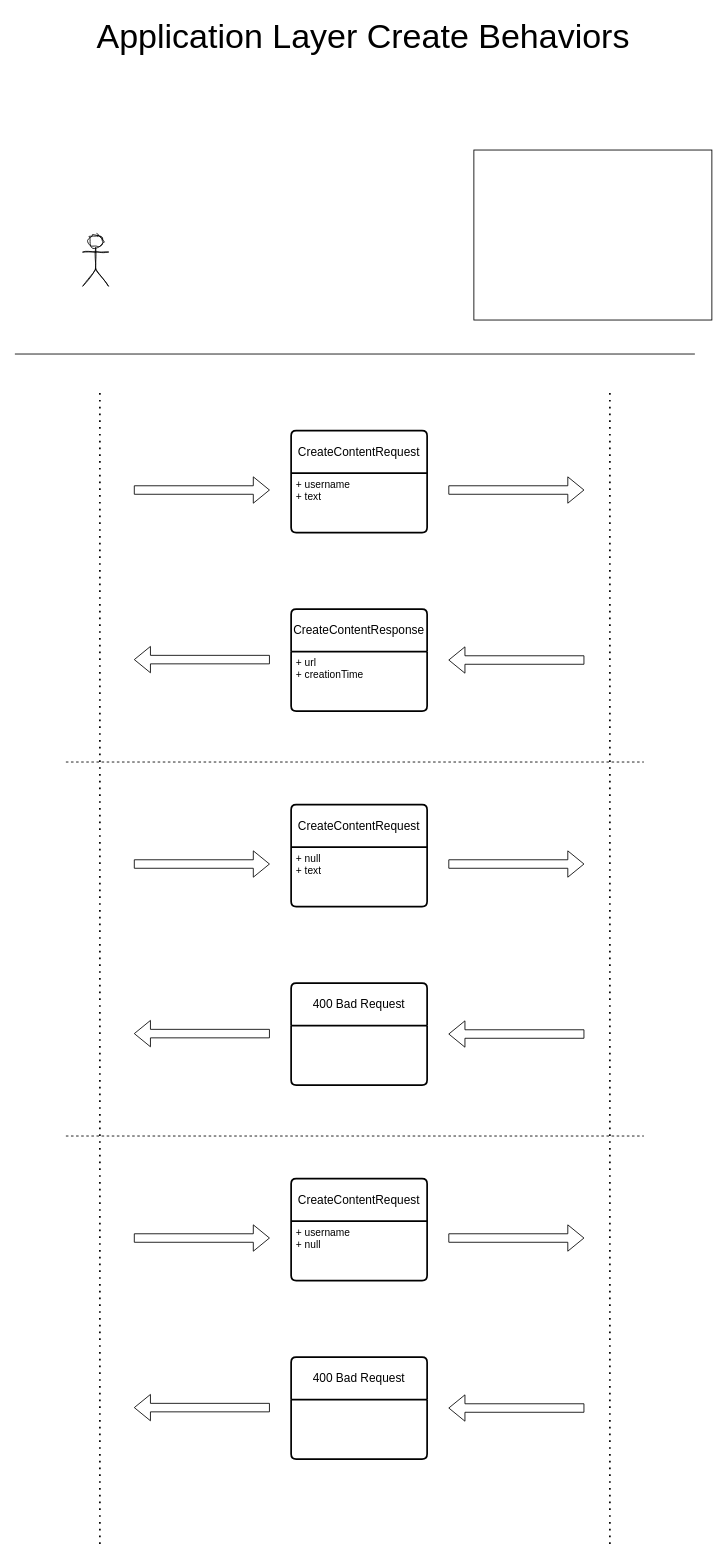
The diagram is 727 pixels wide and 1560 high, and some of its shapes have lost their labels. The shapes that lost their labels are listed below. From the top down, each one's centre as x and y in pixels, then its label:
At point 592,234: "application layer".
At point 95,260: "user".
